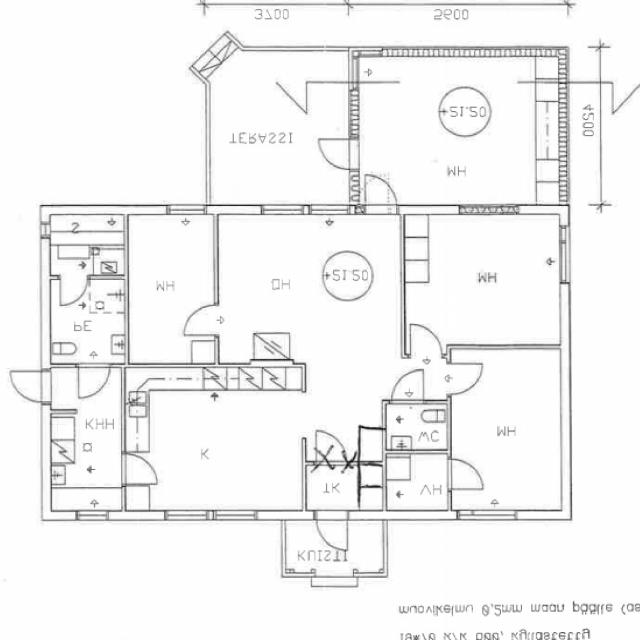door: (364, 174, 396, 216), (316, 510, 348, 551), (9, 370, 51, 401), (318, 139, 360, 170), (391, 368, 424, 404), (447, 459, 483, 491), (78, 363, 110, 398), (447, 363, 483, 394), (411, 323, 442, 358), (120, 453, 156, 483), (184, 304, 218, 335), (60, 275, 87, 305)
